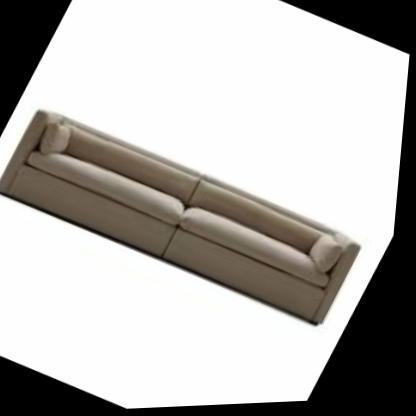Sofa: (0, 68, 403, 374)
